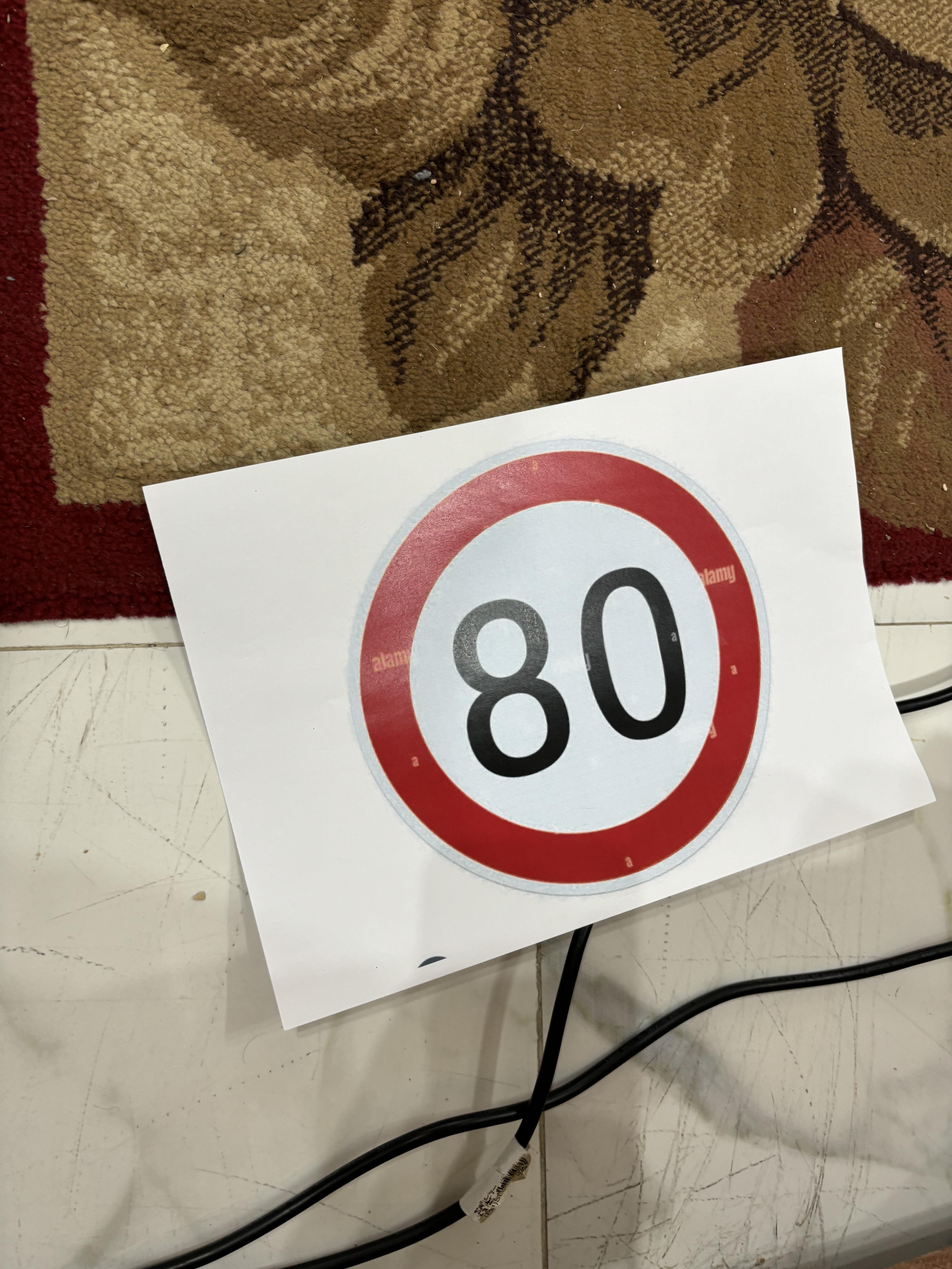80-Speed: (352, 447, 786, 901)
